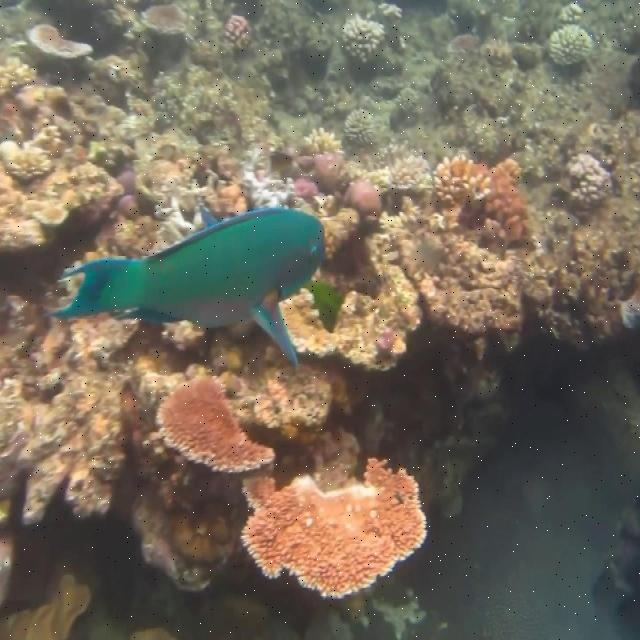fish: (41, 204, 326, 369)
reefs: (0, 0, 639, 608)
